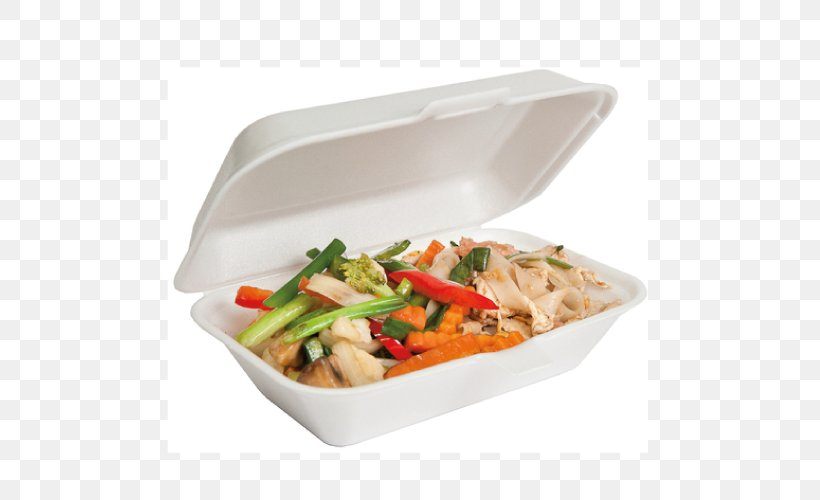Foam Box: (167, 65, 650, 452)
